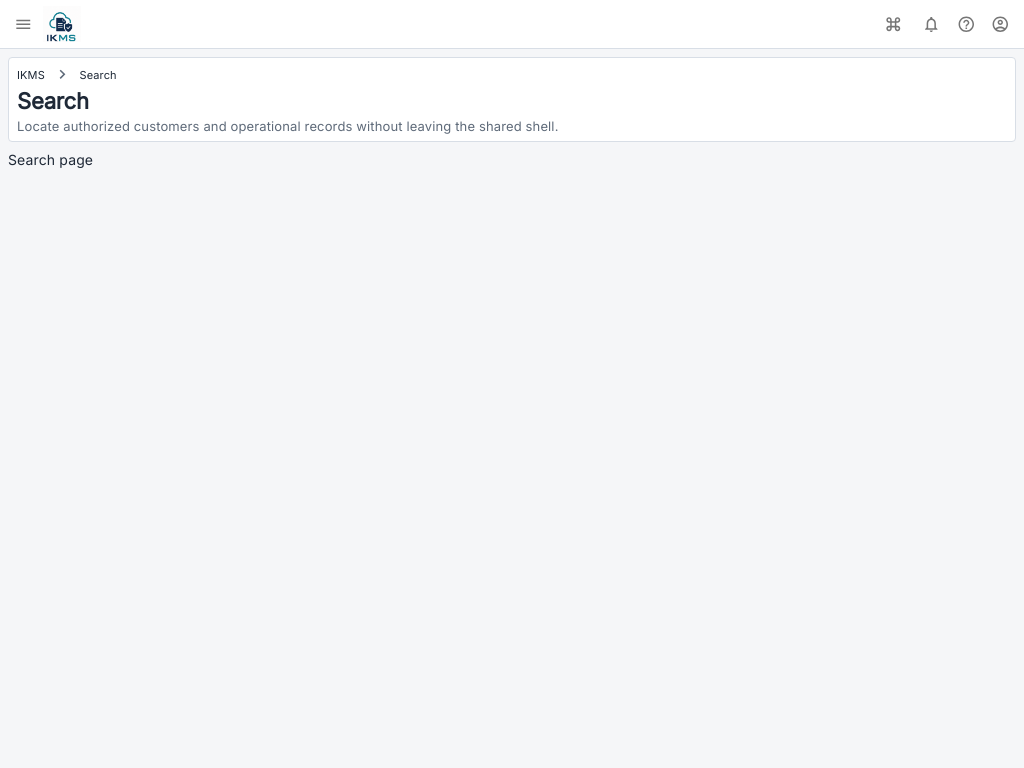
Test: Frontend foundation › application shell renders and navigation respects permissions
Expected: the heading "Search" is shown, [17,88,89,114]
What coordinates should you click on to do the following:
click the button named "Open navigation"
I would click on:
 (23, 24)
Its box is [8,9,39,39].
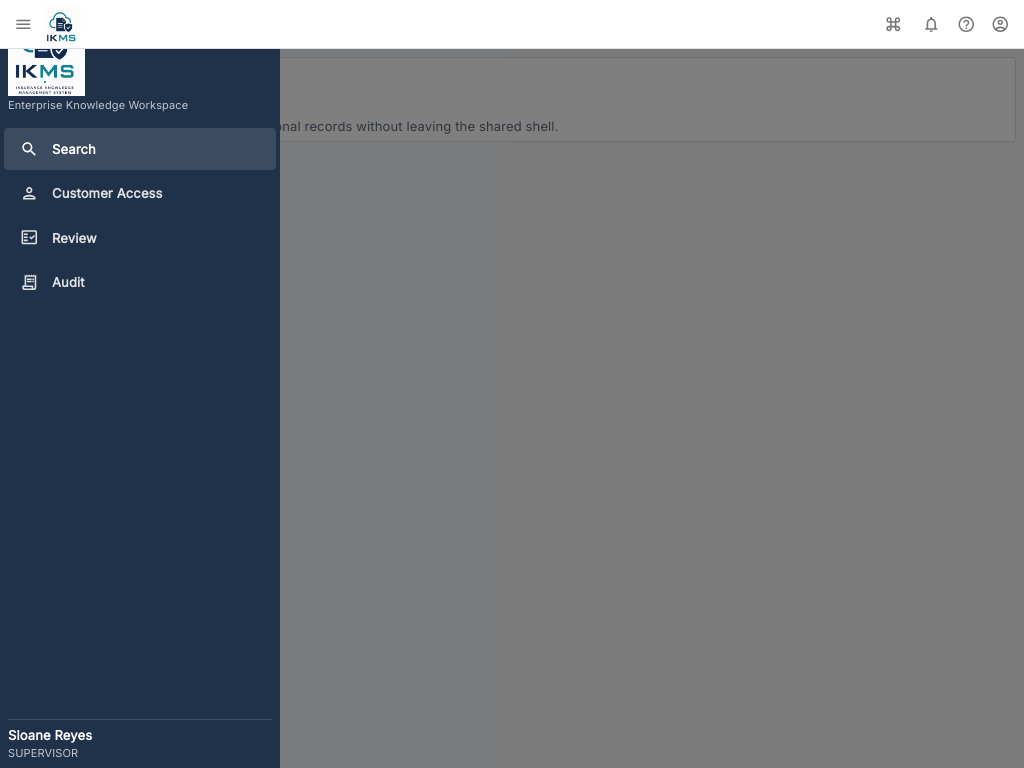
Expected: the link "Search" is shown, [4,128,276,170]
Expected: the link "Customer Access" is shown, [20,184,163,203]
